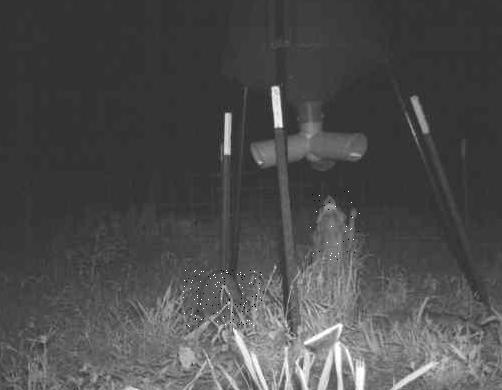Raccoon: (183, 271, 262, 328), (310, 191, 361, 266)
